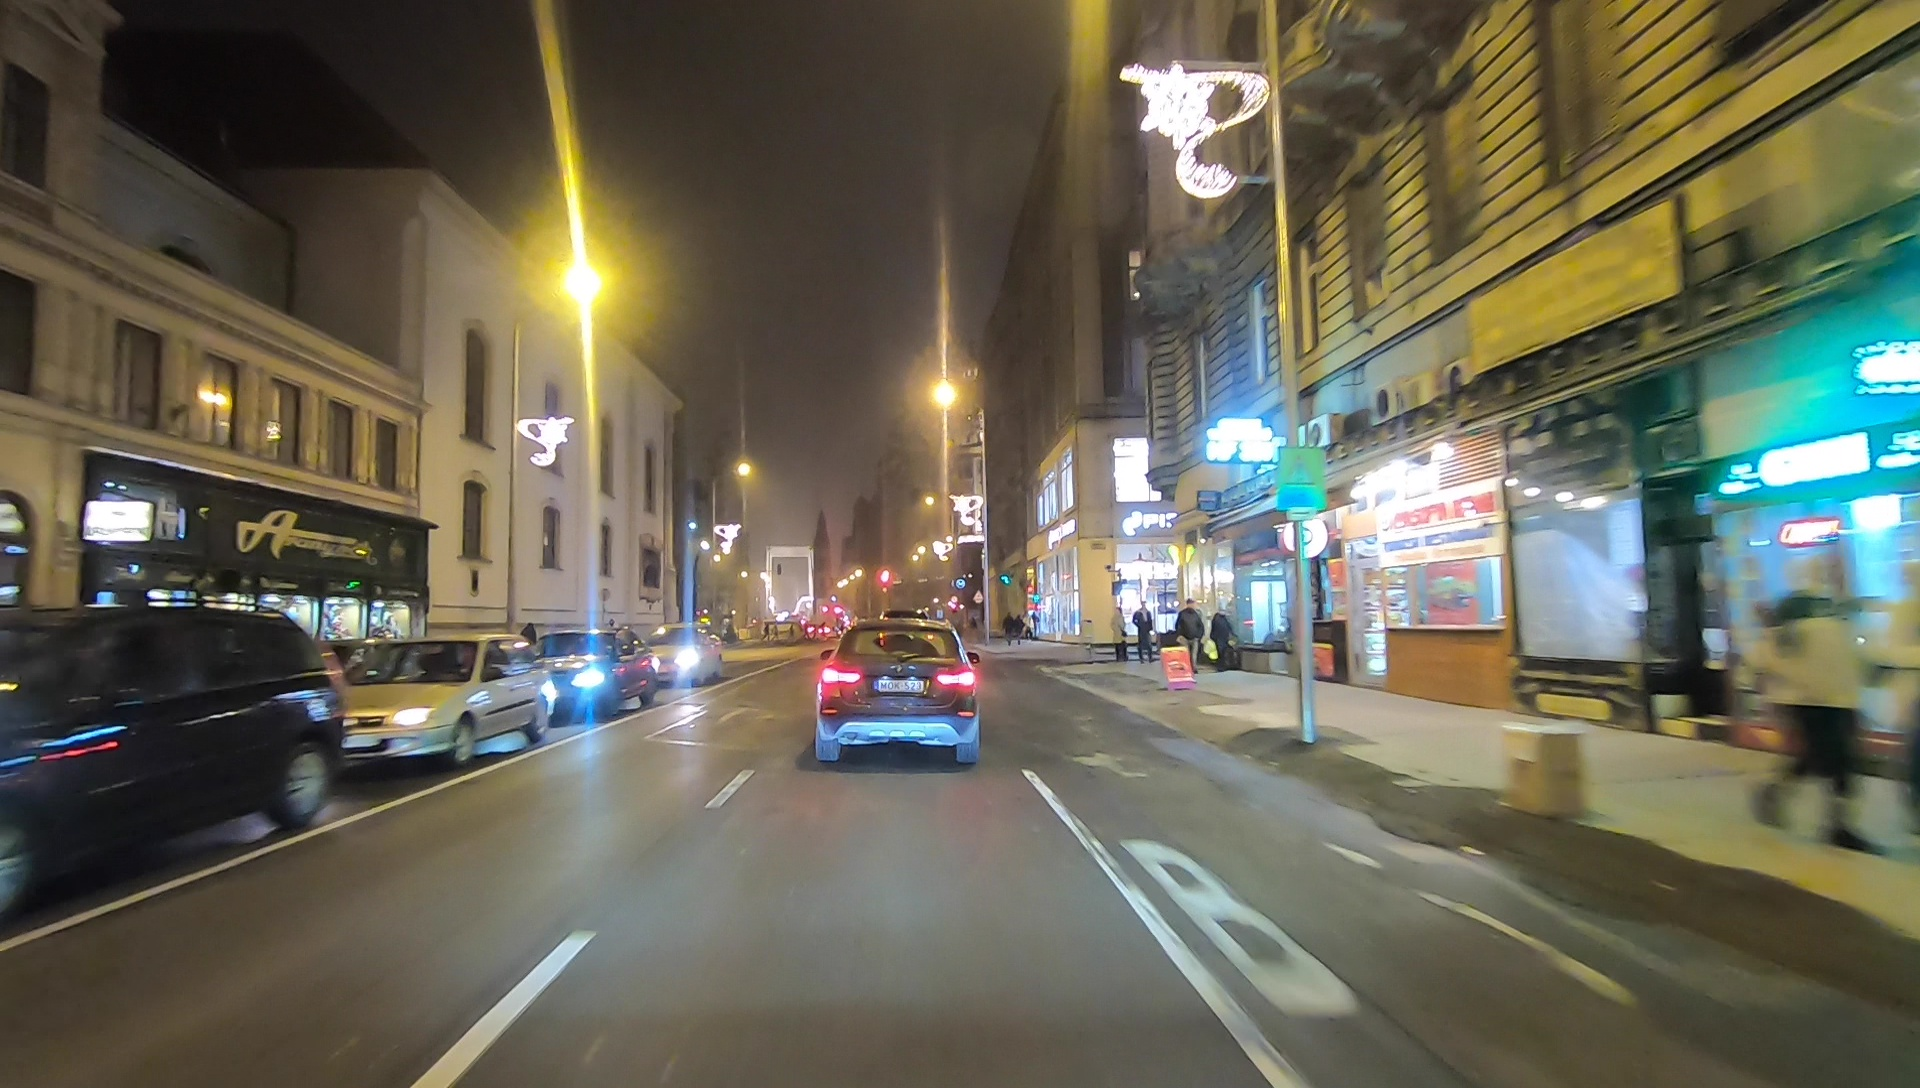person: (1756, 549, 1878, 858), (1175, 600, 1202, 673), (1208, 605, 1234, 670), (1134, 600, 1158, 662), (1110, 604, 1131, 663)
